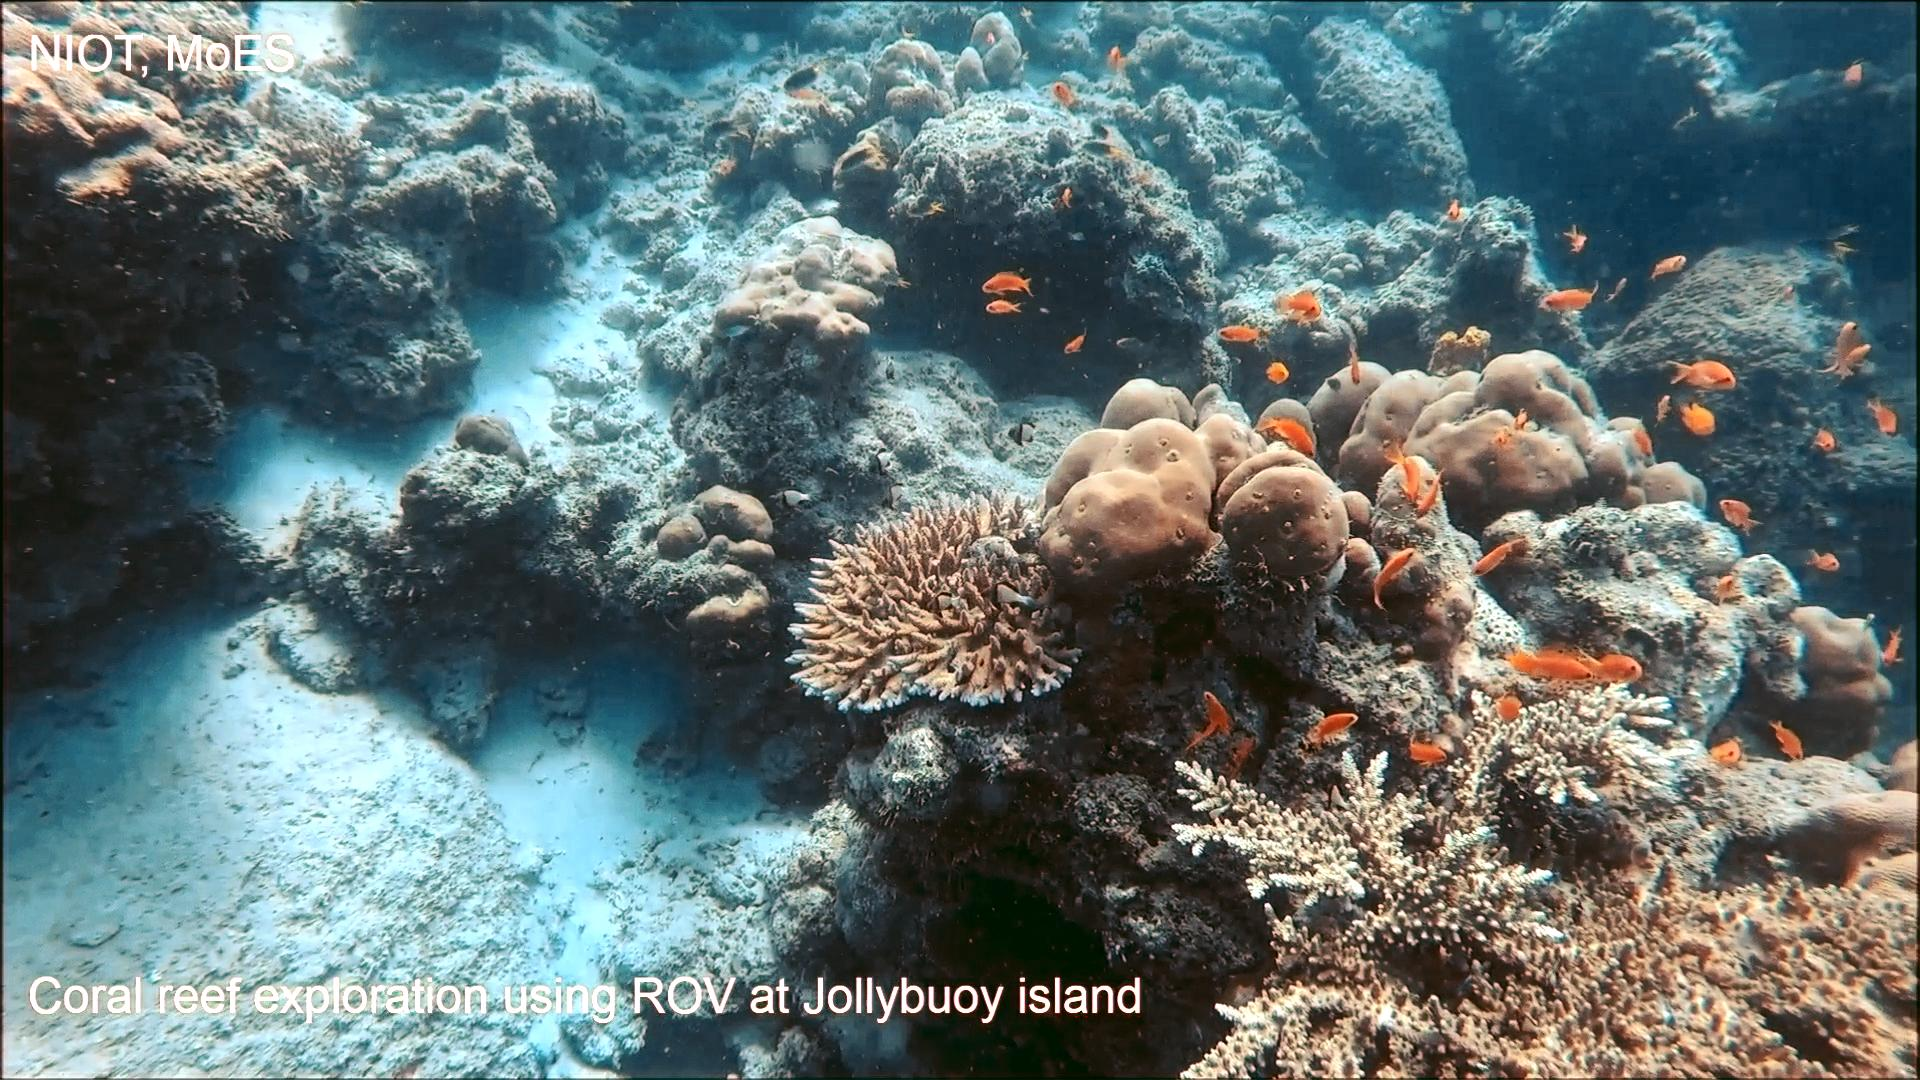Porites-Porites pukoensis: (1033, 367, 1356, 612), (1284, 339, 1718, 517)
